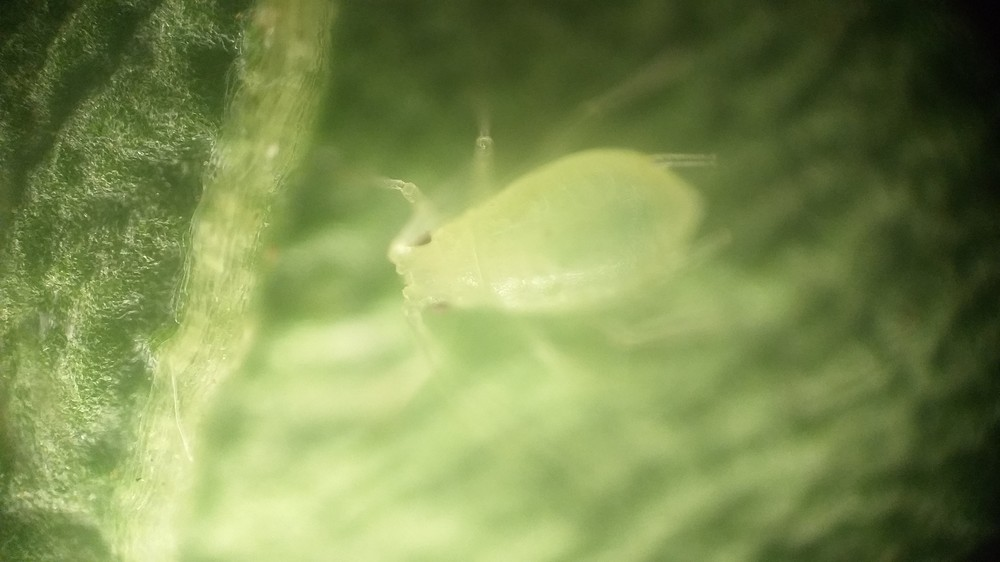Pulgon: (333, 76, 787, 419)
